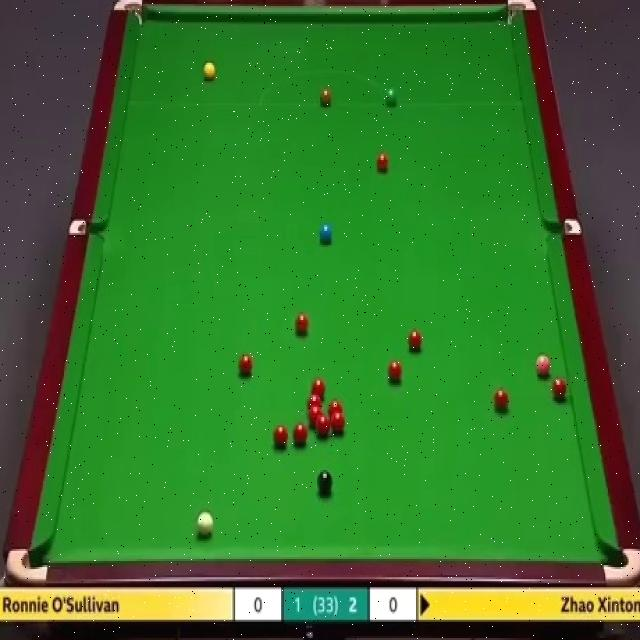black-ball: (317, 469, 333, 495)
blue-ball: (319, 223, 332, 241)
brown-ball: (319, 89, 332, 106)
green-ball: (385, 86, 398, 106)
pink-ball: (534, 354, 553, 379)
red-ball: (551, 378, 568, 404), (494, 388, 509, 413), (330, 412, 347, 434), (273, 424, 289, 446), (316, 416, 330, 440), (293, 422, 308, 444), (238, 355, 253, 375), (294, 308, 309, 328), (308, 408, 322, 428), (387, 362, 401, 382), (409, 331, 422, 351), (377, 153, 389, 174), (313, 378, 324, 400), (328, 400, 342, 417), (308, 398, 321, 414)
white-ball: (194, 513, 215, 538)
yellow-ball: (203, 60, 215, 82)
